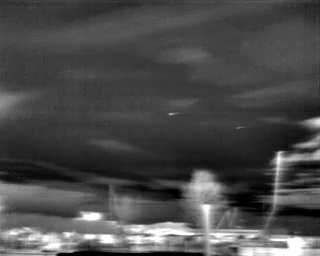BIRD: (235, 124, 245, 132)
